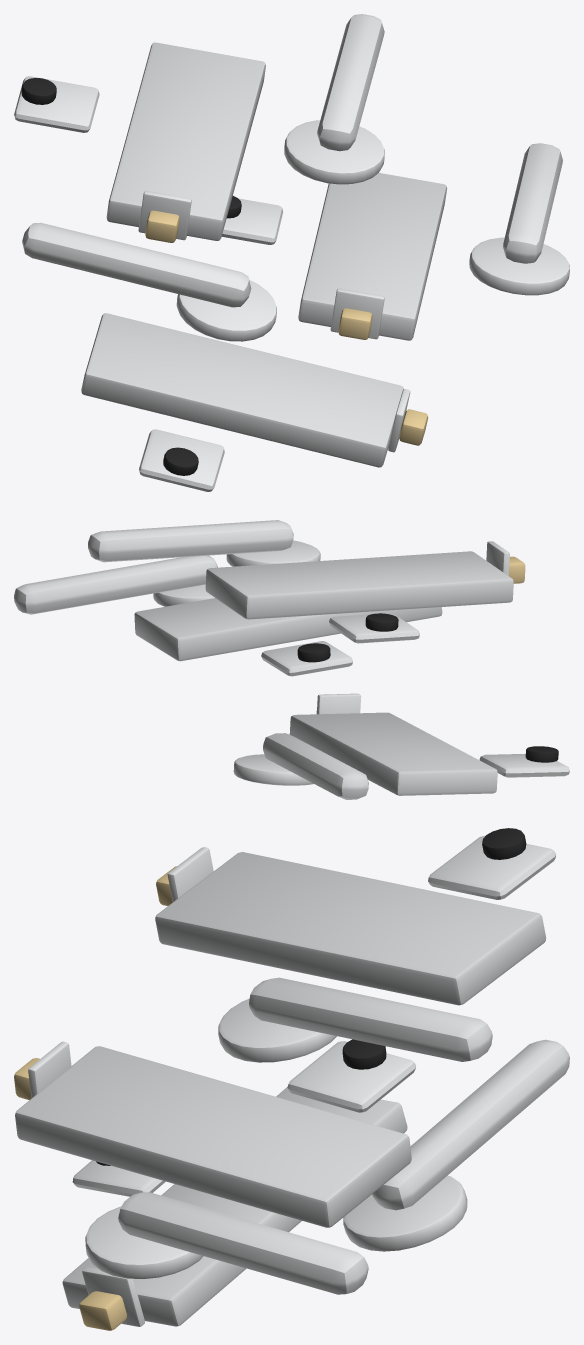
File: ESQ-FER-001_anim.glb
3 views of the same model, one above another, from view 1: azimuth 30°, elevation 25°; view 2: azimuth 150°, elevation 25°; view 3: azimuth 270°, elevation 25° (orthographic). The views are drawn at different scales.
Parts seen in each view (by area): view 1: ESQ-FER-001_anim0, ESQ-FER-001_anim2, ESQ-FER-001_anim1; view 2: ESQ-FER-001_anim2, ESQ-FER-001_anim0, ESQ-FER-001_anim1; view 3: ESQ-FER-001_anim1, ESQ-FER-001_anim2, ESQ-FER-001_anim0.
Part boxes in pixels (box(x1,y1,x2,y2)): ESQ-FER-001_anim0: box(22, 222, 428, 491); ESQ-FER-001_anim2: box(14, 14, 384, 242); ESQ-FER-001_anim1: box(221, 143, 569, 340); ESQ-FER-001_anim2: box(88, 520, 525, 643); ESQ-FER-001_anim0: box(233, 693, 569, 799); ESQ-FER-001_anim1: box(14, 555, 442, 676); ESQ-FER-001_anim1: box(14, 1039, 415, 1294); ESQ-FER-001_anim2: box(155, 828, 556, 1062); ESQ-FER-001_anim0: box(62, 1039, 569, 1330).
Size of the model in its own units: 0.3012 by 0.1699 by 0.2293.
